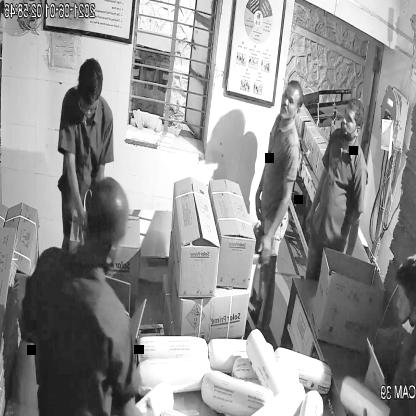no_goggles: (278, 82, 306, 113)
